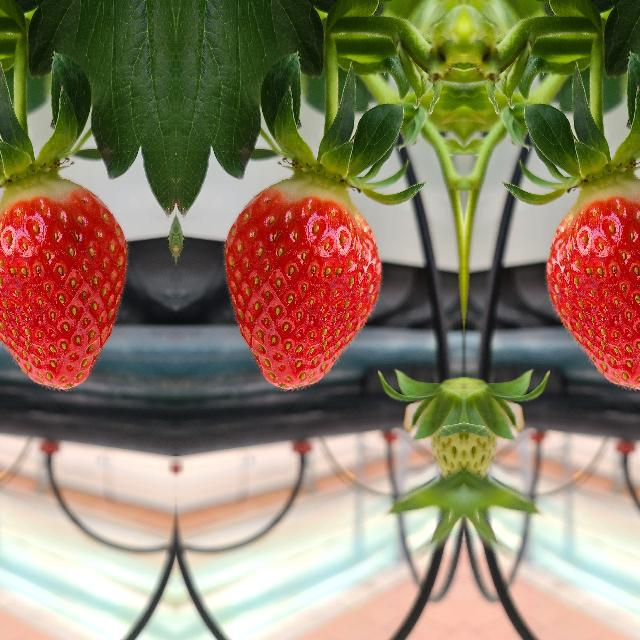Health_100: (220, 178, 382, 392), (0, 178, 129, 391), (544, 178, 640, 391)
